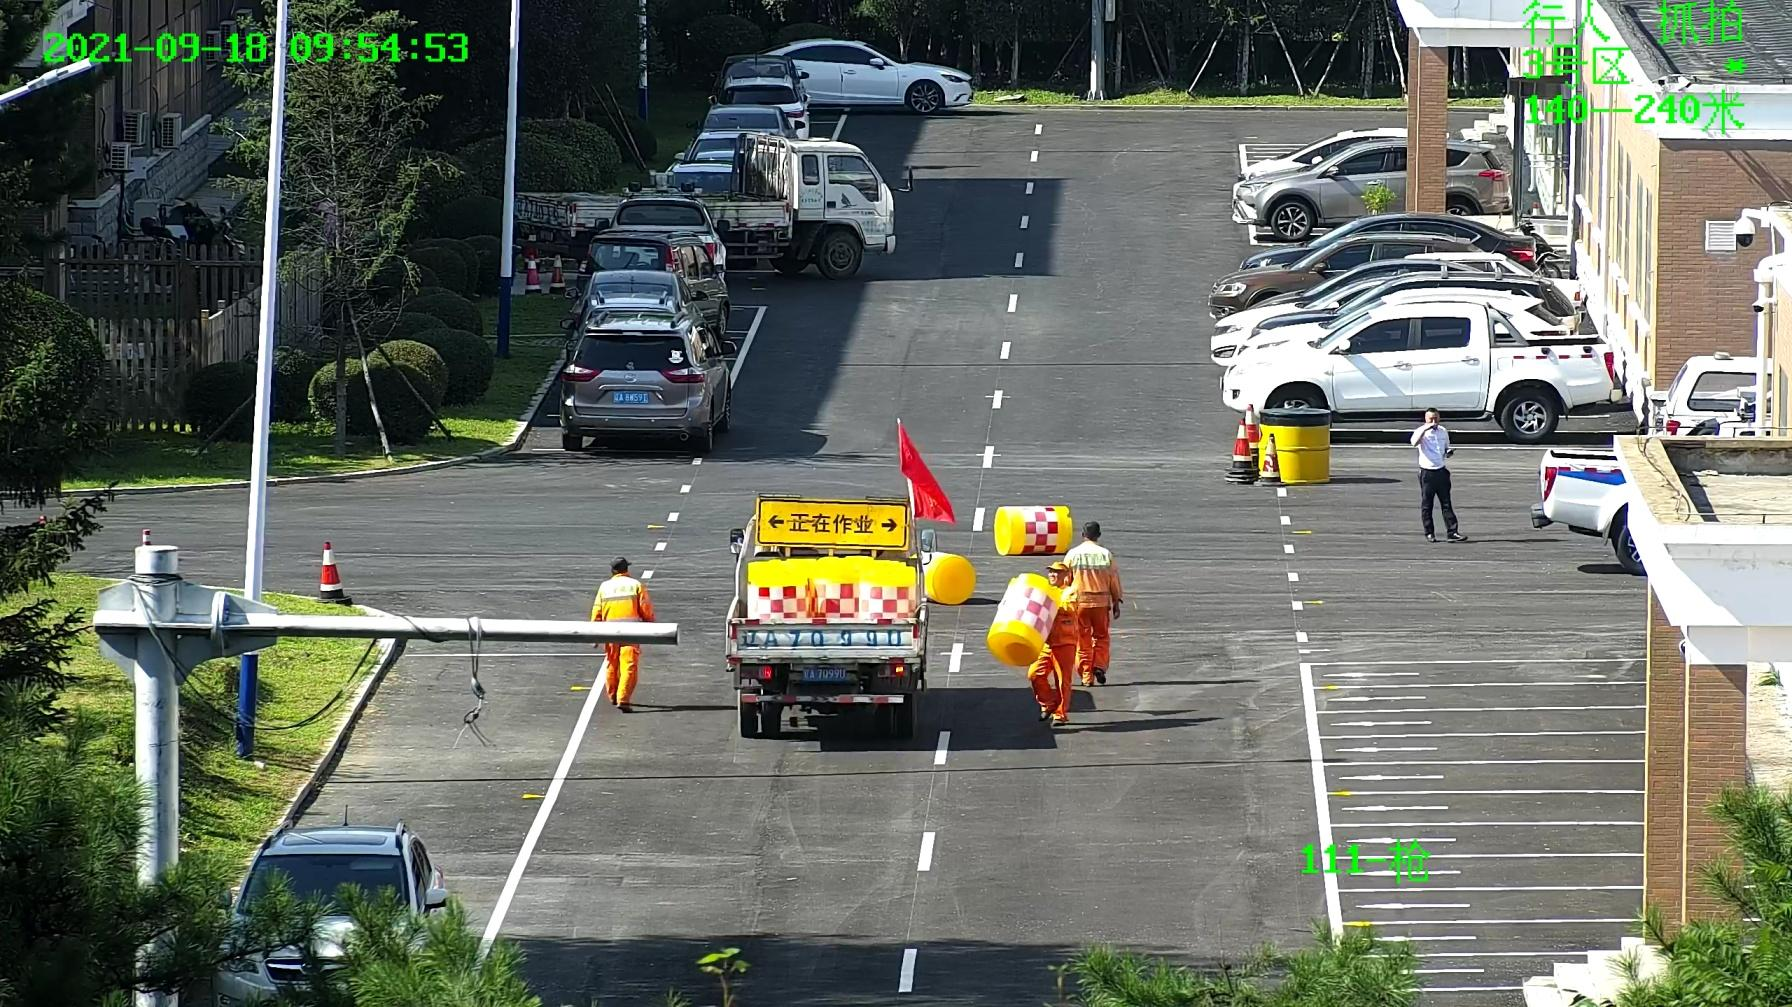cone_barrel: (1241, 129, 1508, 233), (983, 572, 1062, 664), (992, 501, 1073, 556), (748, 560, 812, 622), (860, 558, 916, 620), (916, 549, 976, 606), (812, 560, 859, 622)
